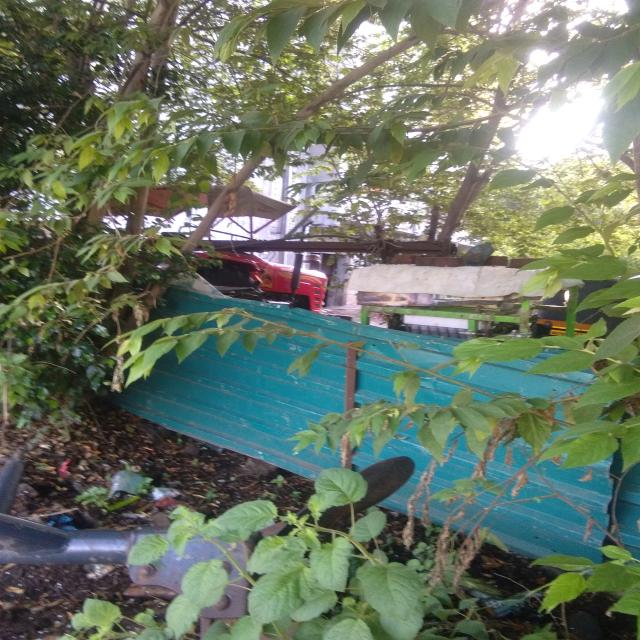tractor: (92, 194, 346, 315)
